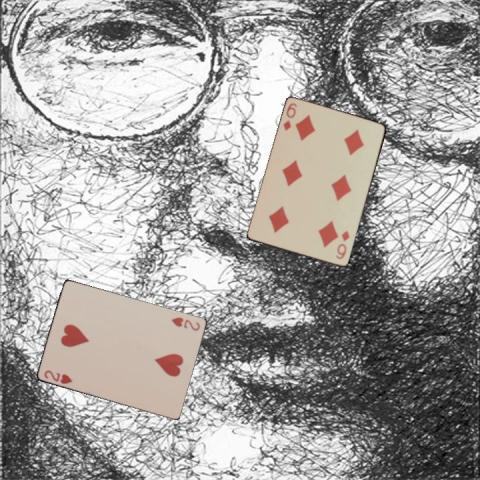2h: (168, 314, 201, 333), (41, 368, 73, 386)
6d: (280, 100, 299, 132), (333, 228, 351, 261)
